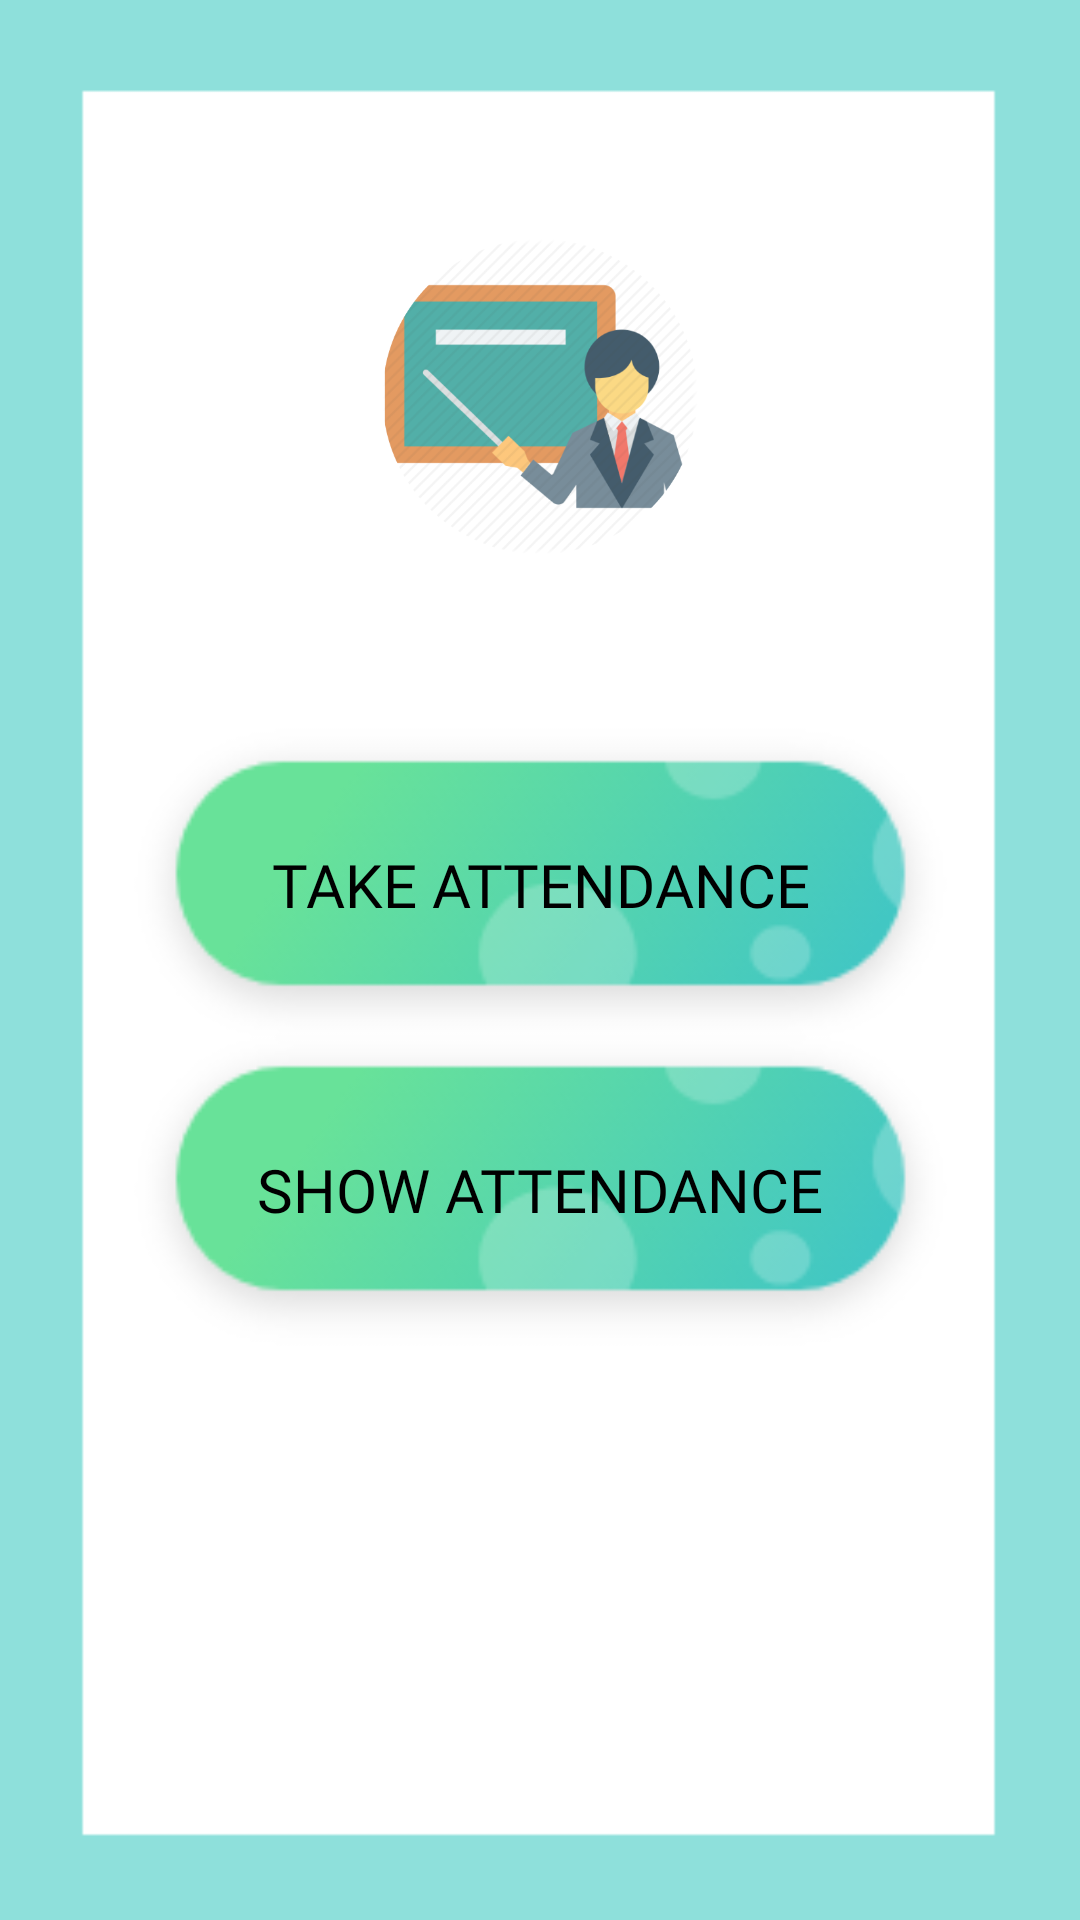

Where to tap for icons on this 1080 × 1920 app screen, as [x,y]:
teacherpageicon: [533,396]
